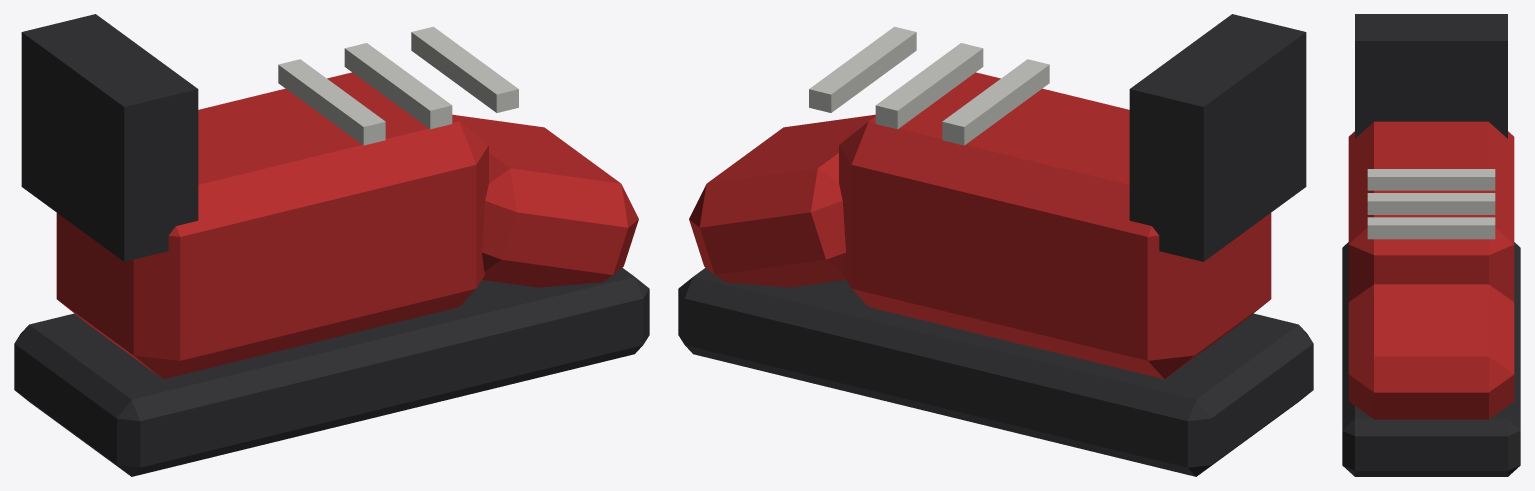
File: tagrun.glb
3 renders of one model, left to right at view 1: azimuth 30°, elevation 25°; view 2: azimuth 150°, elevation 25°; view 3: azimuth 270°, elevation 25°, orthographic. The views are drawn at different scales.
Parts seen in each view (by area): view 1: tagrun_shoe; view 2: tagrun_shoe; view 3: tagrun_shoe.
Boxes of the visible parts, box(x1,y1,x2,y2) form: tagrun_shoe: box(14, 14, 649, 476); tagrun_shoe: box(678, 14, 1313, 476); tagrun_shoe: box(1342, 14, 1520, 476).
Bounding box in the file's own units: 0.3615 × 0.24 × 0.14.
